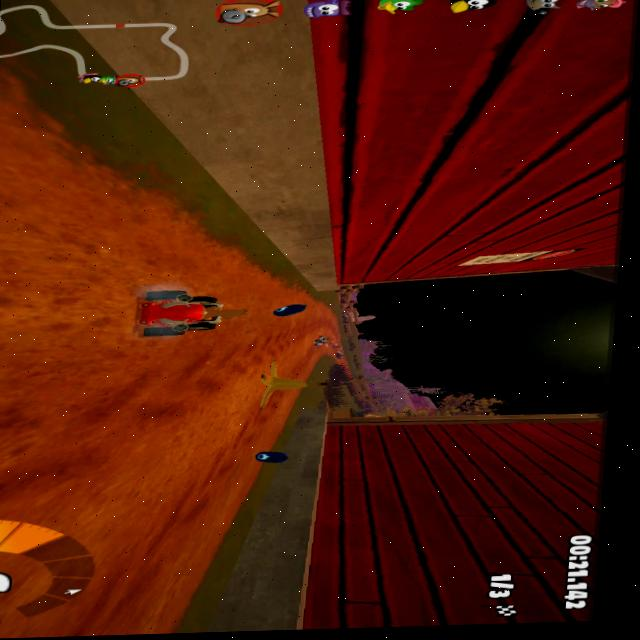nitro: (251, 444, 301, 469), (270, 300, 313, 319)
obstacle: (245, 360, 321, 406)
player_kart: (112, 282, 254, 351)
track: (0, 351, 244, 527), (0, 171, 142, 362), (248, 275, 274, 360), (270, 320, 310, 359), (309, 313, 331, 354), (348, 363, 362, 393), (337, 332, 345, 366)
